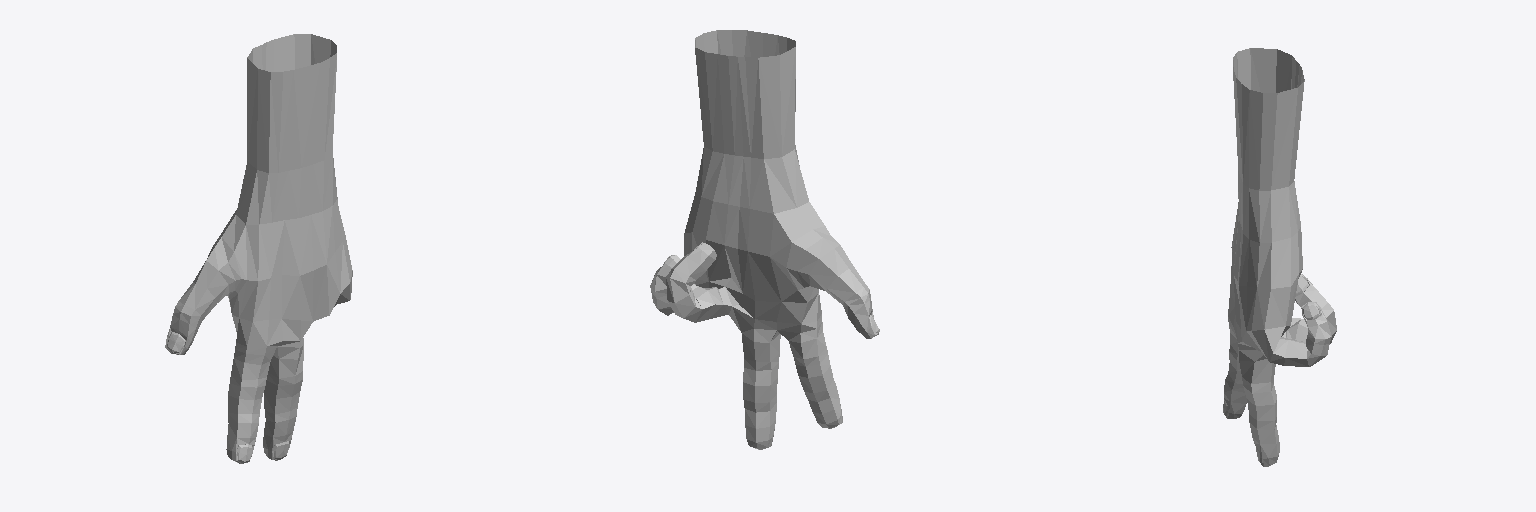
Rendered from handAnimated4_000030.obj.
3 views of the same model, side by side, from view 1: azimuth 30°, elevation 25°; view 2: azimuth 150°, elevation 25°; view 3: azimuth 270°, elevation 25° (orthographic).
Visible parts, largest first — view 1: Cube.000_Cube.017_Detached_Detached; view 2: Cube.000_Cube.017_Detached_Detached; view 3: Cube.000_Cube.017_Detached_Detached.
Part boxes in pixels (x1,y1,x2,y2): Cube.000_Cube.017_Detached_Detached: (165, 34, 352, 463); Cube.000_Cube.017_Detached_Detached: (650, 30, 879, 449); Cube.000_Cube.017_Detached_Detached: (1223, 48, 1336, 466).
Bounding box in the file's own units: 0.69 × 1.34 × 0.3456.